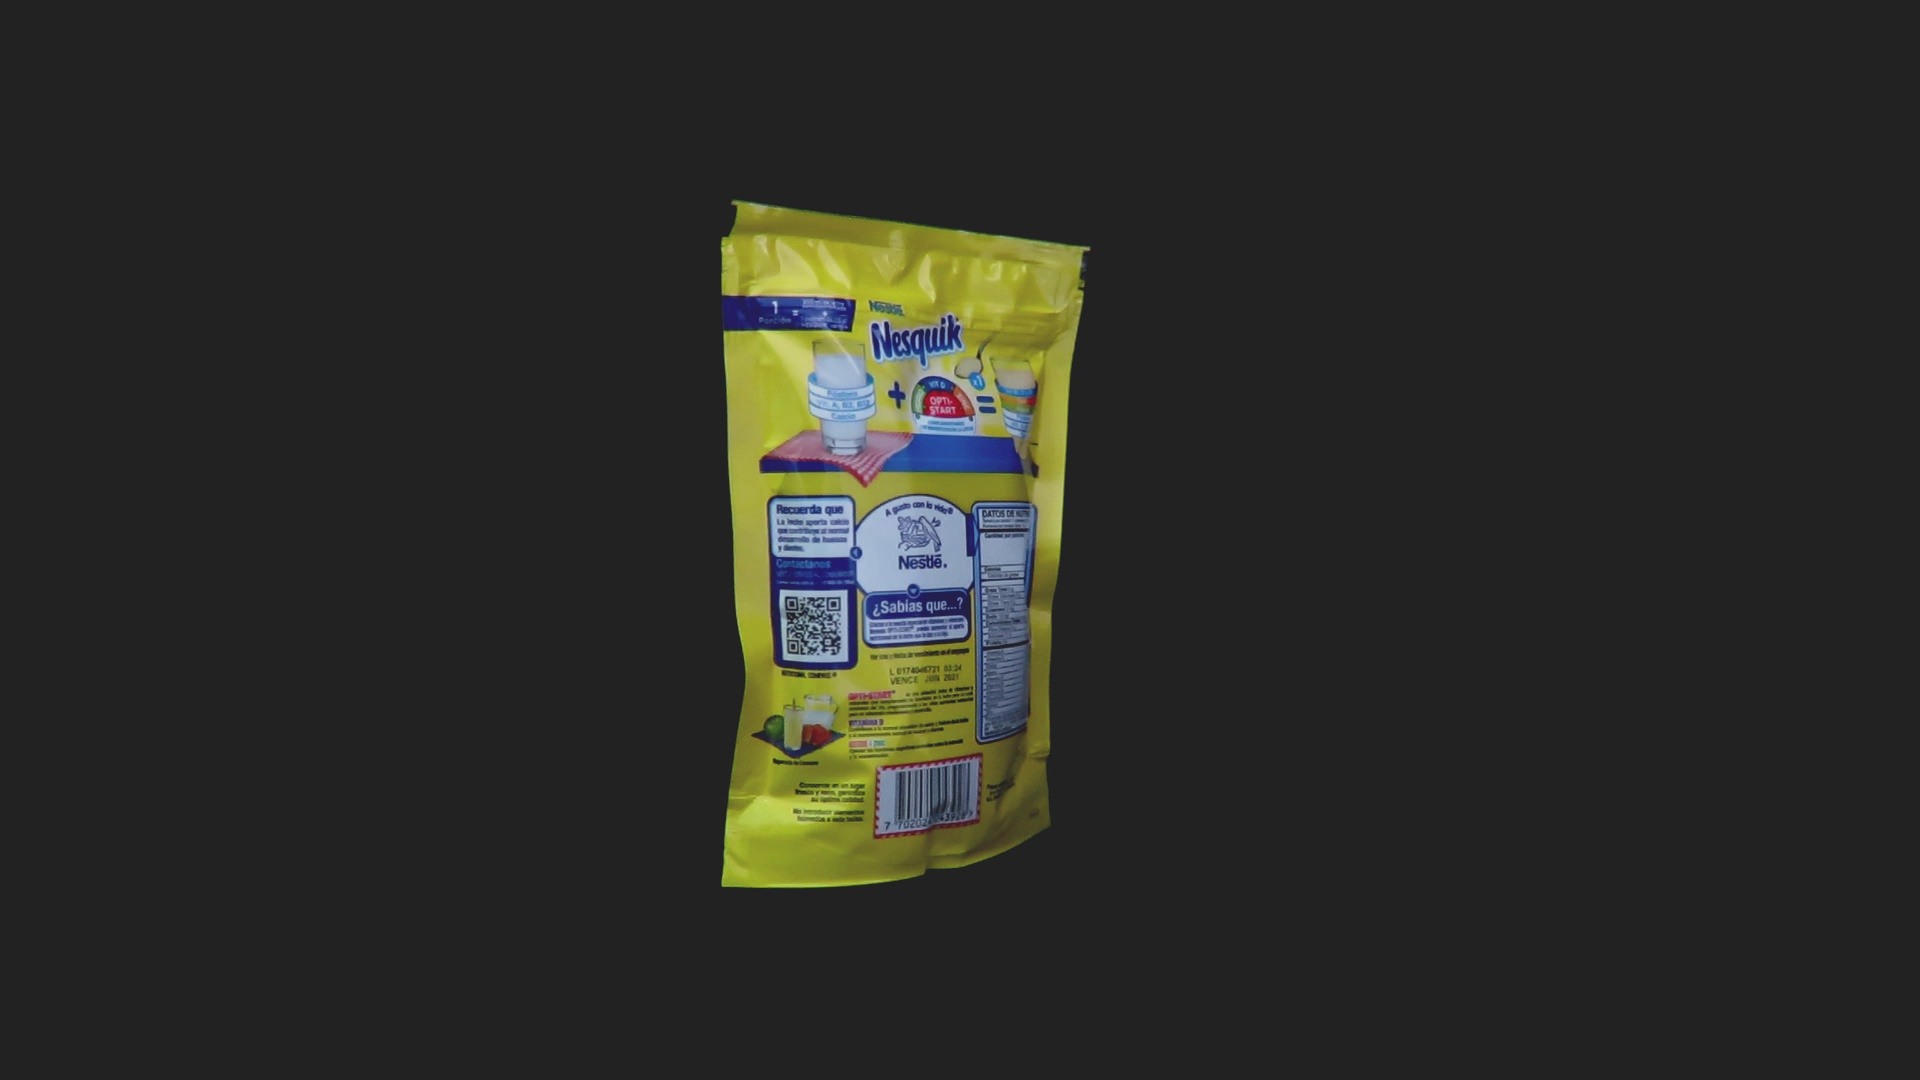COL0170306DYP20000: (716, 195, 1096, 894)
